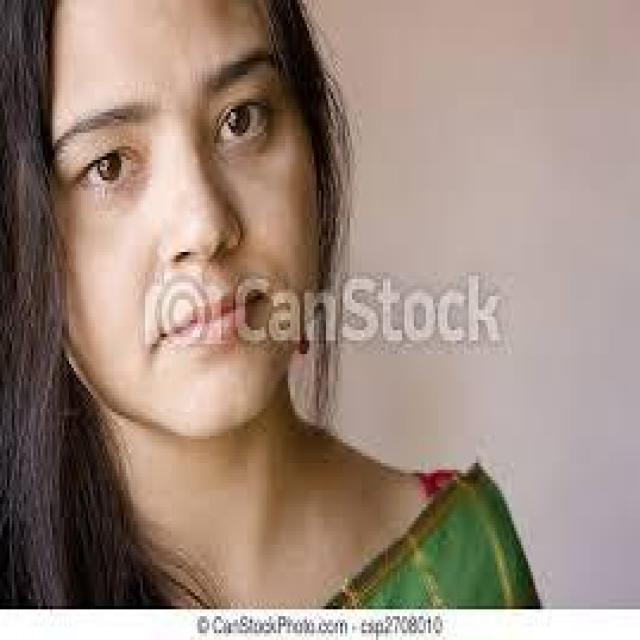person: (0, 0, 545, 603)
